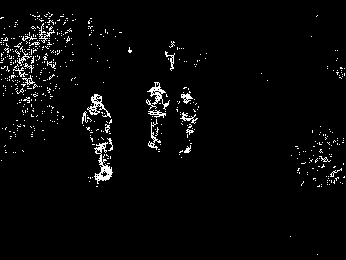person: (83, 94, 113, 184), (145, 80, 169, 155), (177, 86, 199, 157)
